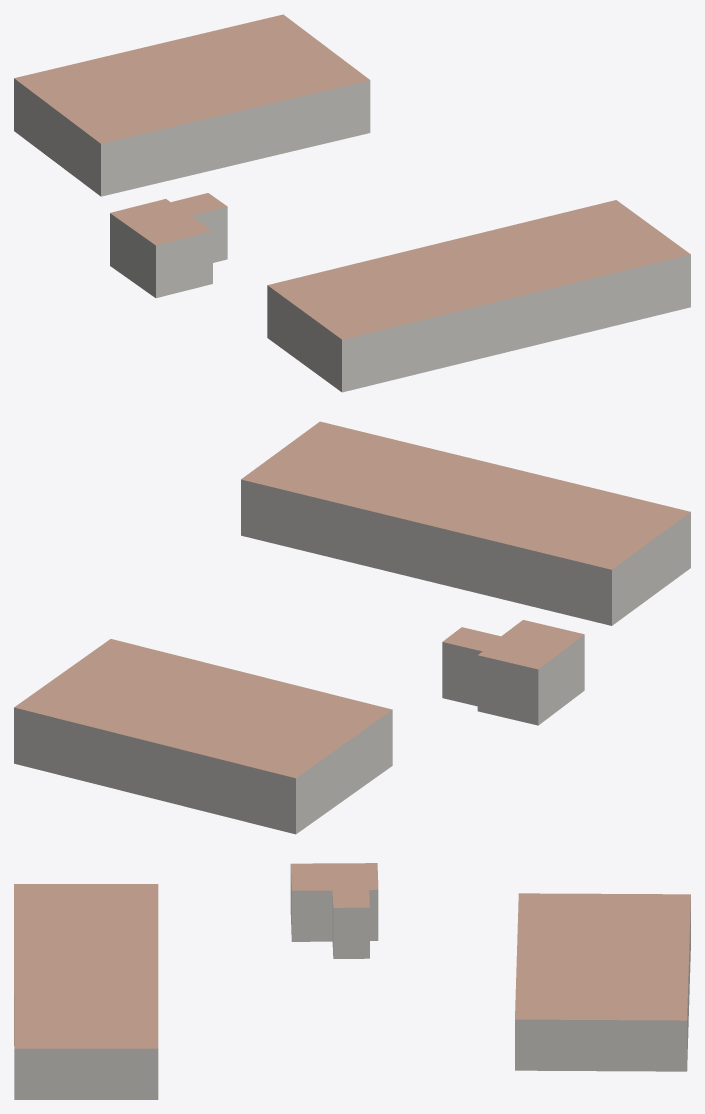
Rendered from gridID_7.dae.
3 renders of one model, top to bottom at view 1: azimuth 30°, elevation 25°; view 2: azimuth 150°, elevation 25°; view 3: azimuth 270°, elevation 25°, orthographic. The views are drawn at different scales.
Visible parts, largest first — view 1: model_gridID_7_w116940023, model_gridID_7_w116940056, model_gridID_7_w382893199; view 2: model_gridID_7_w116940023, model_gridID_7_w116940056, model_gridID_7_w382893199; view 3: model_gridID_7_w116940023, model_gridID_7_w116940056, model_gridID_7_w382893199.
Boxes of the visible parts, <box> form: model_gridID_7_w116940023: <box>267,200,690,392</box>; model_gridID_7_w116940056: <box>14,14,370,196</box>; model_gridID_7_w382893199: <box>110,193,227,298</box>; model_gridID_7_w116940023: <box>241,421,690,625</box>; model_gridID_7_w116940056: <box>14,639,392,834</box>; model_gridID_7_w382893199: <box>442,620,584,725</box>; model_gridID_7_w116940023: <box>14,884,158,1099</box>; model_gridID_7_w116940056: <box>515,893,690,1071</box>; model_gridID_7_w382893199: <box>290,863,378,958</box>.
Bounding box in the file's own units: 58.41 × 90 × 7.5.
